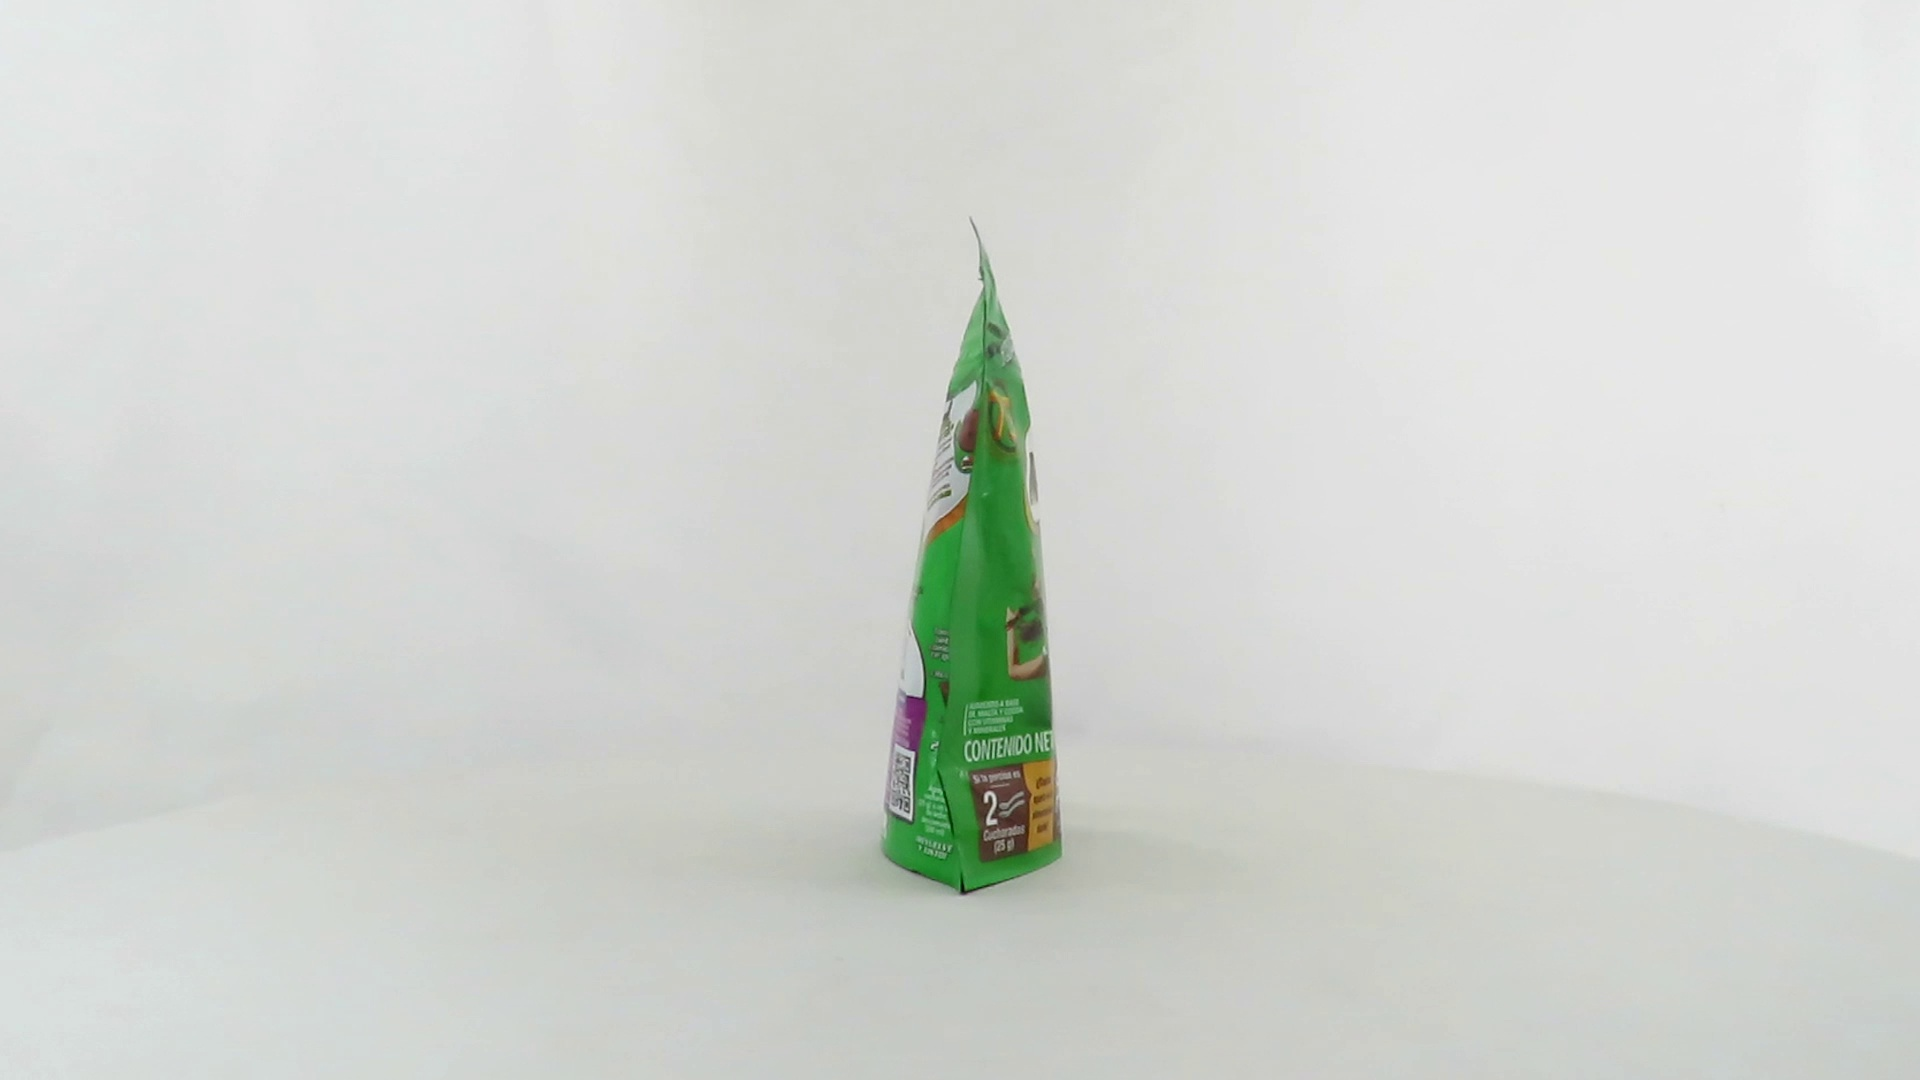COL0170203DYP10000: (876, 211, 1069, 902)
